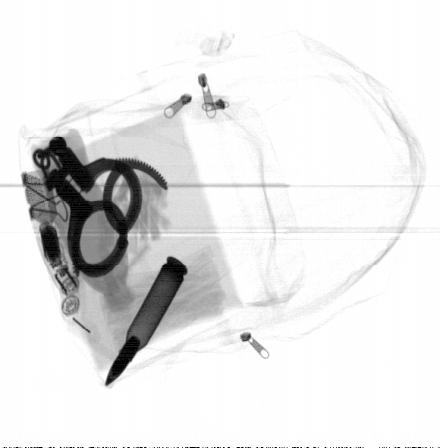Bullet: (104, 255, 188, 386)
HandCuffs: (31, 134, 169, 279)
